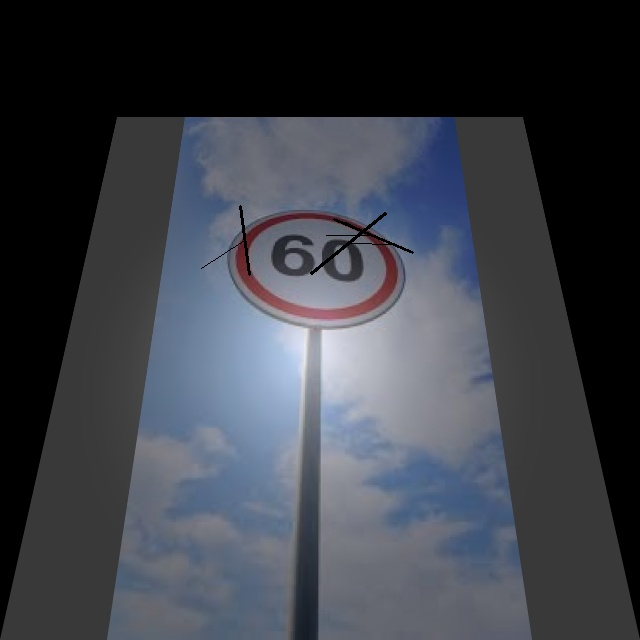Speed_Limit_60: (224, 206, 417, 328)
